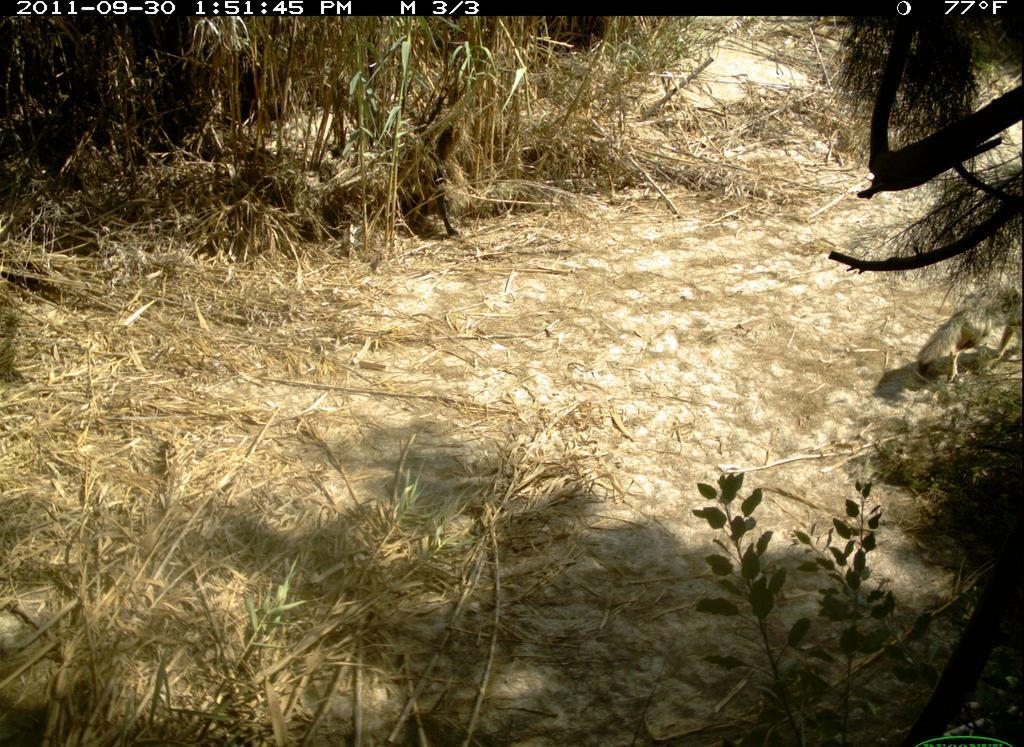coyote: (895, 280, 1021, 383)
